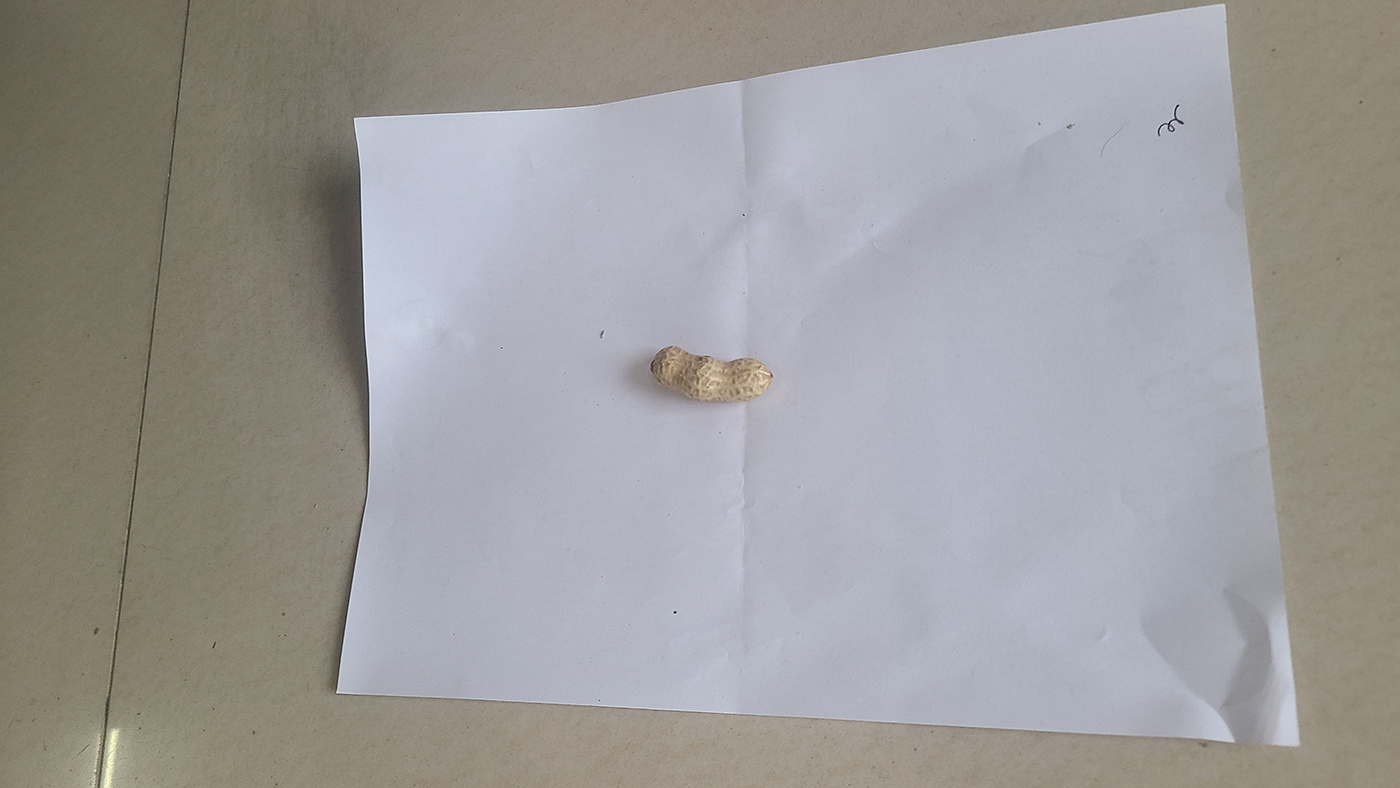h: (650, 344, 773, 403)
